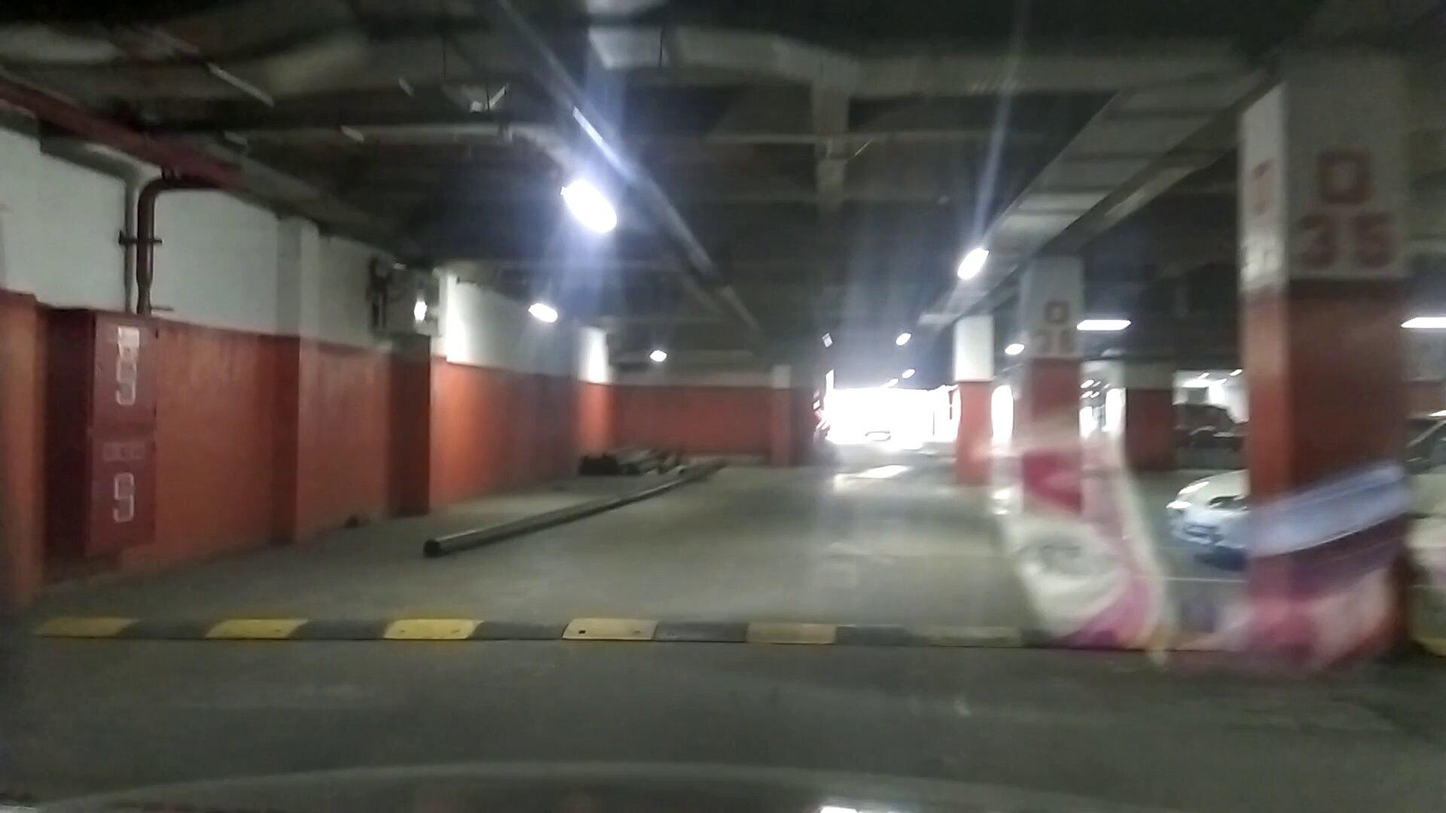Bump: (41, 597, 1258, 674)
